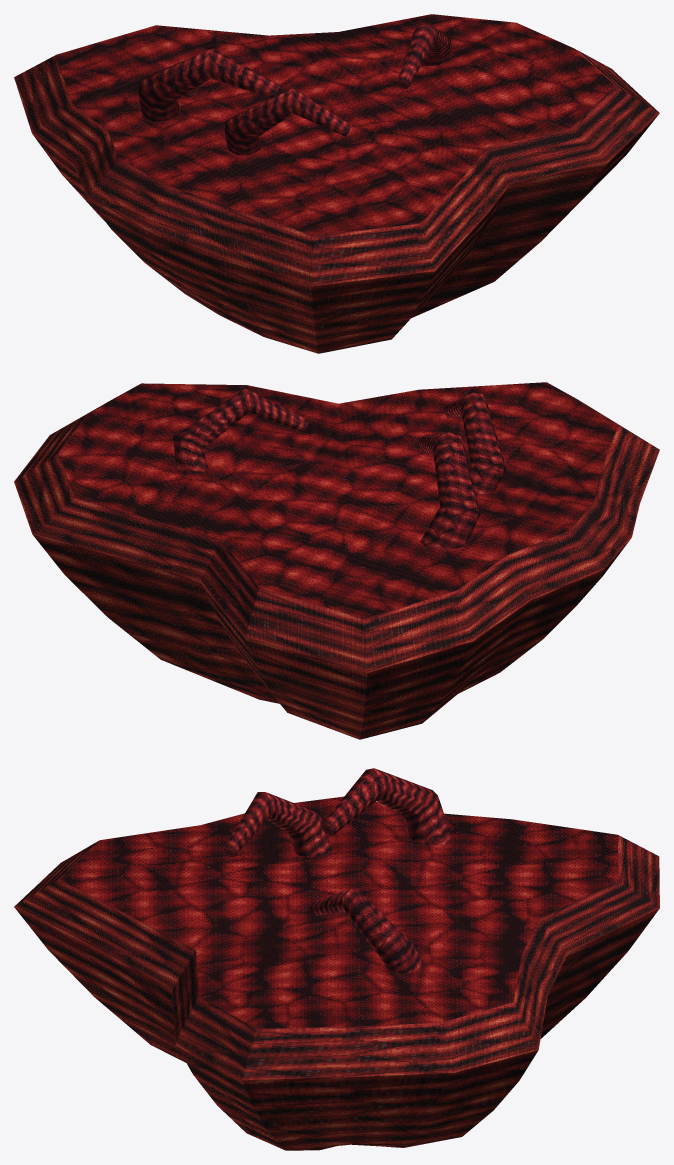
Rendered from Prop_FloatingIslet_A.glb.
3 renders of one model, top to bottom at view 1: azimuth 30°, elevation 25°; view 2: azimuth 150°, elevation 25°; view 3: azimuth 270°, elevation 25°, orthographic. The views are drawn at different scales.
Visible parts, largest first — view 1: Prop_FloatingIslet_A_Flesh_Plateau, Prop_FloatingIslet_A_Calcified_Crust, Prop_FloatingIslet_A_Exposed_Ribs; view 2: Prop_FloatingIslet_A_Flesh_Plateau, Prop_FloatingIslet_A_Calcified_Crust, Prop_FloatingIslet_A_Exposed_Ribs; view 3: Prop_FloatingIslet_A_Flesh_Plateau, Prop_FloatingIslet_A_Calcified_Crust, Prop_FloatingIslet_A_Exposed_Ribs.
Part boxes in pixels (x1=…): Prop_FloatingIslet_A_Flesh_Plateau: x1=56, y1=14, x2=614, y2=235; Prop_FloatingIslet_A_Calcified_Crust: x1=14, y1=48, x2=659, y2=353; Prop_FloatingIslet_A_Exposed_Ribs: x1=138, y1=24, x2=451, y2=155; Prop_FloatingIslet_A_Flesh_Plateau: x1=59, y1=382, x2=617, y2=618; Prop_FloatingIslet_A_Calcified_Crust: x1=14, y1=384, x2=659, y2=739; Prop_FloatingIslet_A_Exposed_Ribs: x1=173, y1=388, x2=506, y2=550; Prop_FloatingIslet_A_Flesh_Plateau: x1=59, y1=796, x2=618, y2=1028; Prop_FloatingIslet_A_Calcified_Crust: x1=14, y1=835, x2=659, y2=1150; Prop_FloatingIslet_A_Exposed_Ribs: x1=223, y1=768, x2=452, y2=973.
Size of the model in its own units: 10.93 by 5.65 by 11.18.
3 materials, 3 textured.
